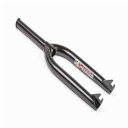fork: (12, 13, 118, 113)
